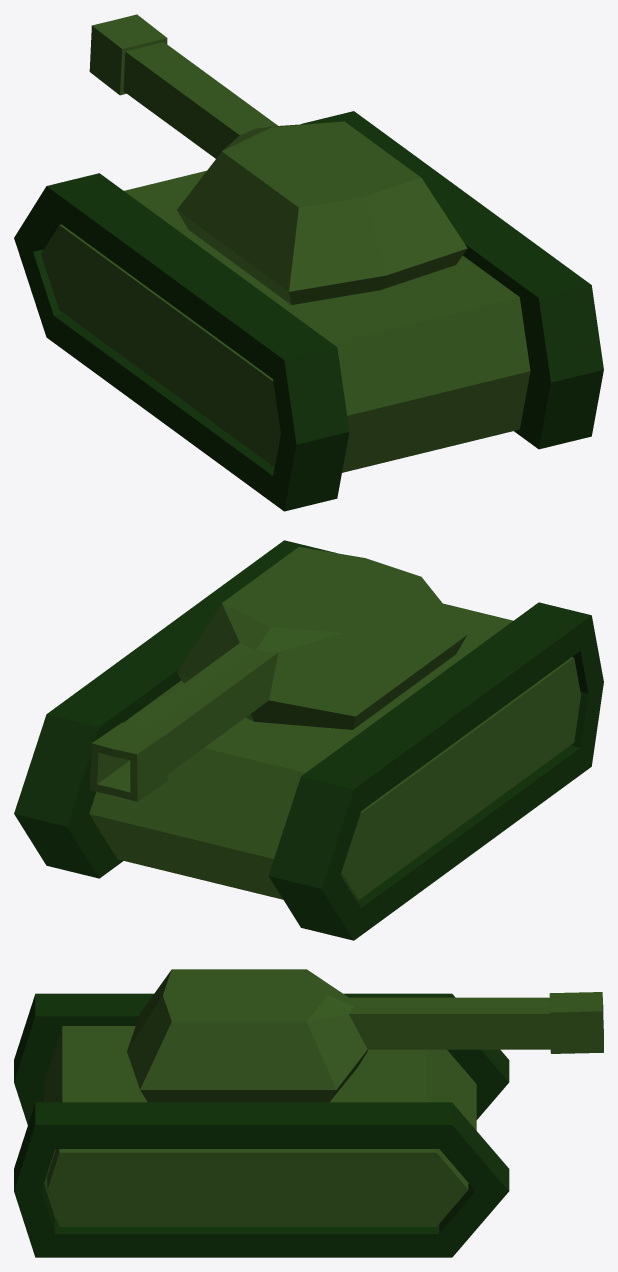
The model's file is uploads_files_2655945_tank.fbx.
3 views of the same model, one above another, from view 1: azimuth 30°, elevation 25°; view 2: azimuth 150°, elevation 25°; view 3: azimuth 270°, elevation 25° (orthographic). The views are drawn at different scales.
Parts seen in each view (by area): view 1: Cube, Куб; view 2: Cube, Куб; view 3: Cube, Куб.
Boxes of the visible parts, x1,y1,x2,y2 form: Cube: (14, 111, 603, 511); Куб: (89, 14, 467, 304); Cube: (14, 540, 603, 940); Куб: (89, 547, 467, 801); Cube: (14, 993, 509, 1257); Куб: (127, 969, 603, 1102).
Size of the model in its own units: 316 by 221 by 600.
